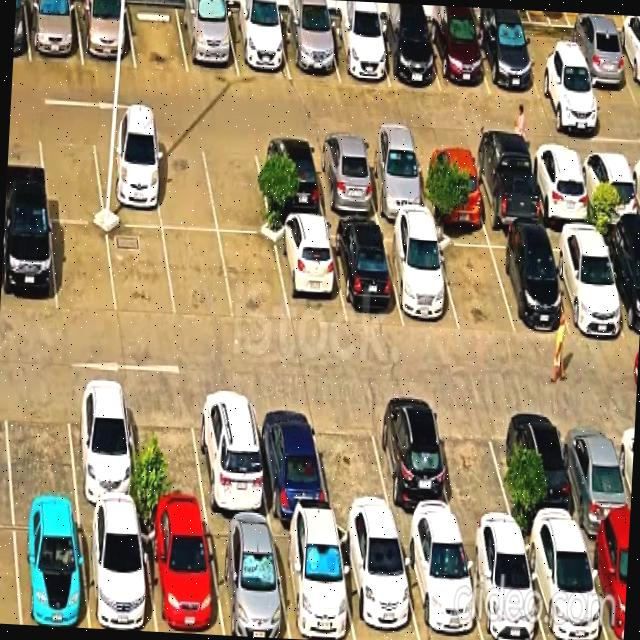empty: (435, 404, 517, 532), (312, 401, 395, 526), (129, 387, 207, 516), (4, 382, 77, 506), (435, 232, 515, 333), (202, 136, 271, 234), (163, 229, 234, 320), (151, 133, 217, 230), (108, 226, 176, 320), (38, 126, 104, 222), (219, 234, 290, 323), (51, 222, 117, 314), (518, 27, 588, 102), (127, 2, 188, 73)
occupied: (370, 403, 459, 528), (205, 518, 290, 639), (191, 391, 270, 519), (141, 515, 224, 635), (271, 522, 355, 640), (252, 395, 331, 520), (336, 524, 420, 640), (66, 383, 141, 511), (507, 406, 583, 532), (460, 530, 545, 640), (398, 530, 483, 640), (80, 510, 156, 632), (522, 532, 607, 640), (13, 509, 89, 628), (559, 409, 631, 534), (545, 231, 627, 336), (382, 227, 459, 330), (488, 233, 568, 332), (328, 224, 403, 324), (274, 222, 346, 324), (93, 130, 162, 227), (469, 147, 542, 229), (415, 145, 486, 225), (563, 28, 637, 104), (255, 139, 325, 219), (0, 214, 57, 312), (361, 142, 431, 220), (311, 141, 380, 219), (527, 149, 594, 226), (474, 21, 540, 98), (577, 149, 640, 228), (583, 533, 629, 640), (426, 20, 490, 94), (226, 9, 291, 80), (375, 21, 440, 91), (177, 5, 239, 77), (326, 18, 390, 87), (600, 232, 640, 342), (75, 0, 136, 68), (280, 16, 339, 81), (25, 0, 83, 65), (612, 32, 640, 104)
